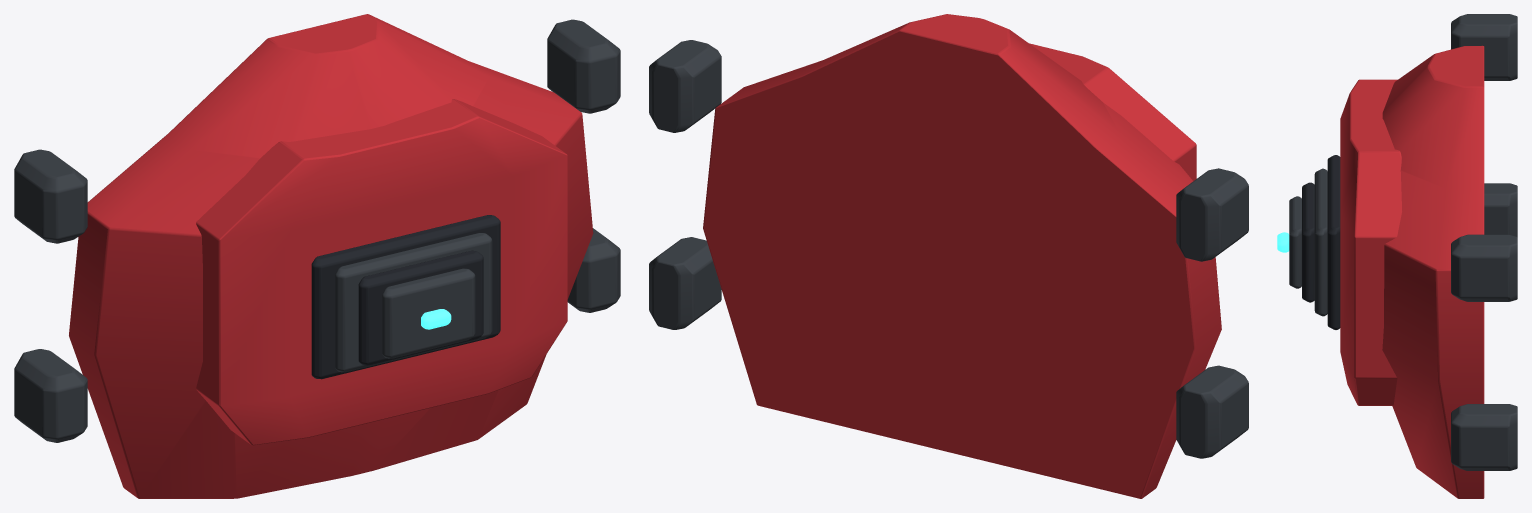
Rendered from ShoulderBack_Set09_Mantis.fbx.
3 views of the same model, side by side, from view 1: azimuth 30°, elevation 25°; view 2: azimuth 150°, elevation 25°; view 3: azimuth 270°, elevation 25° (orthographic). The views are drawn at different scales.
Visible parts, largest first — view 1: ShoulderBack_Set09_Mantis; view 2: ShoulderBack_Set09_Mantis; view 3: ShoulderBack_Set09_Mantis.
Boxes of the visible parts, <box> form: ShoulderBack_Set09_Mantis: <box>14,14,620,498</box>; ShoulderBack_Set09_Mantis: <box>649,14,1248,498</box>; ShoulderBack_Set09_Mantis: <box>1277,14,1517,498</box>.
Bounding box in the file's own units: 0.51 × 0.35 × 0.2165.
